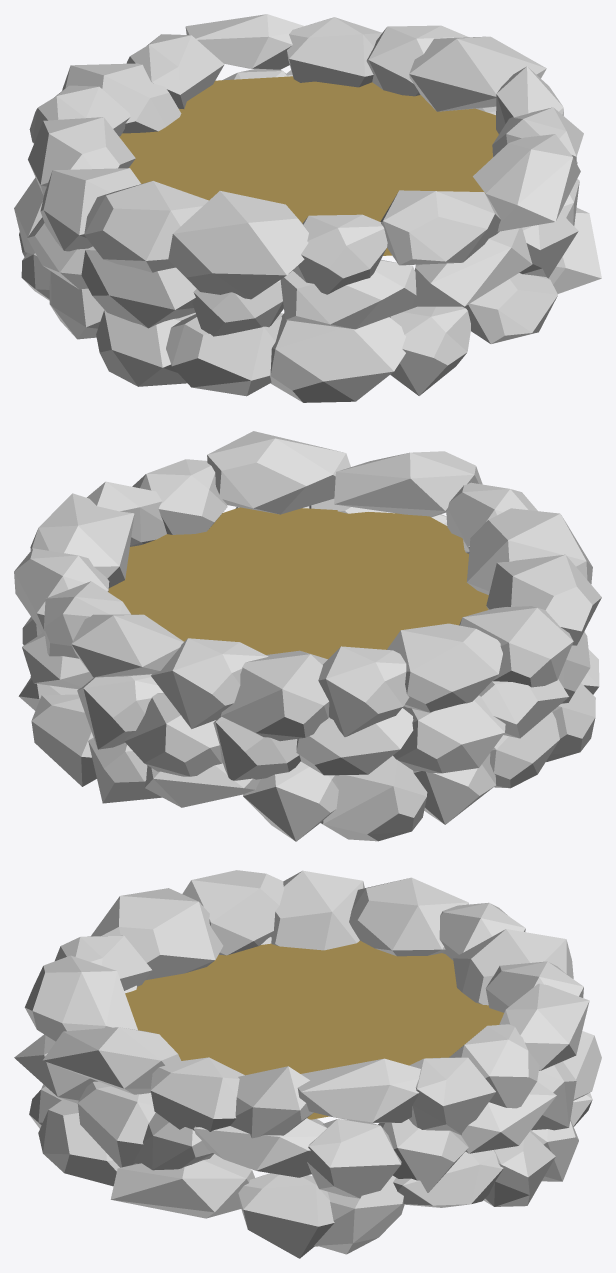
3 views of the same model, one above another, from view 1: azimuth 30°, elevation 25°; view 2: azimuth 150°, elevation 25°; view 3: azimuth 270°, elevation 25° (orthographic). The views are drawn at different scales.
Visible parts, largest first — view 1: SM_B_07; view 2: SM_B_07; view 3: SM_B_07.
Boxes of the visible parts, x1=… form: SM_B_07: x1=14, y1=14, x2=601, y2=402; SM_B_07: x1=14, y1=431, x2=601, y2=841; SM_B_07: x1=14, y1=870, x2=601, y2=1258.
Bounding box in the file's own units: 304 × 115 × 312.
